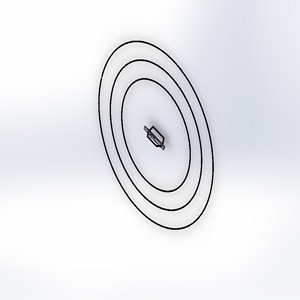circle: (83, 36, 230, 240)
submarine: (135, 118, 173, 160)
